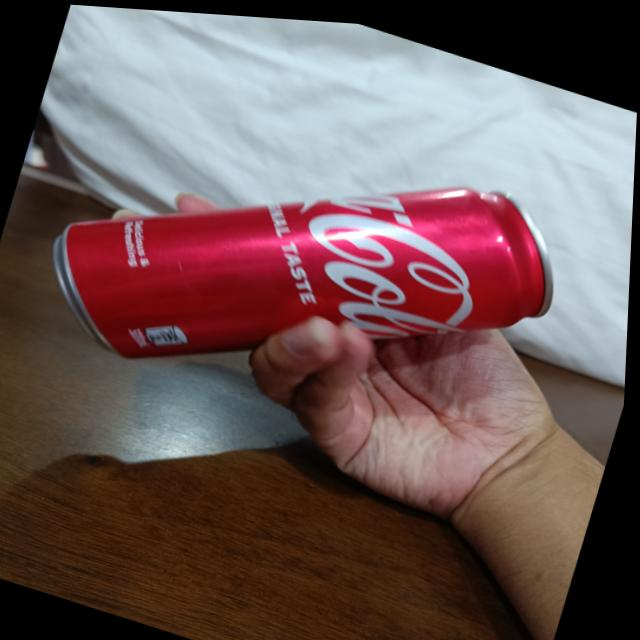coke: (30, 61, 583, 476)
